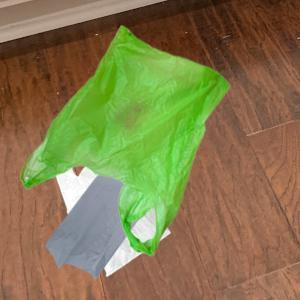plastic_bag: (17, 22, 234, 260)
